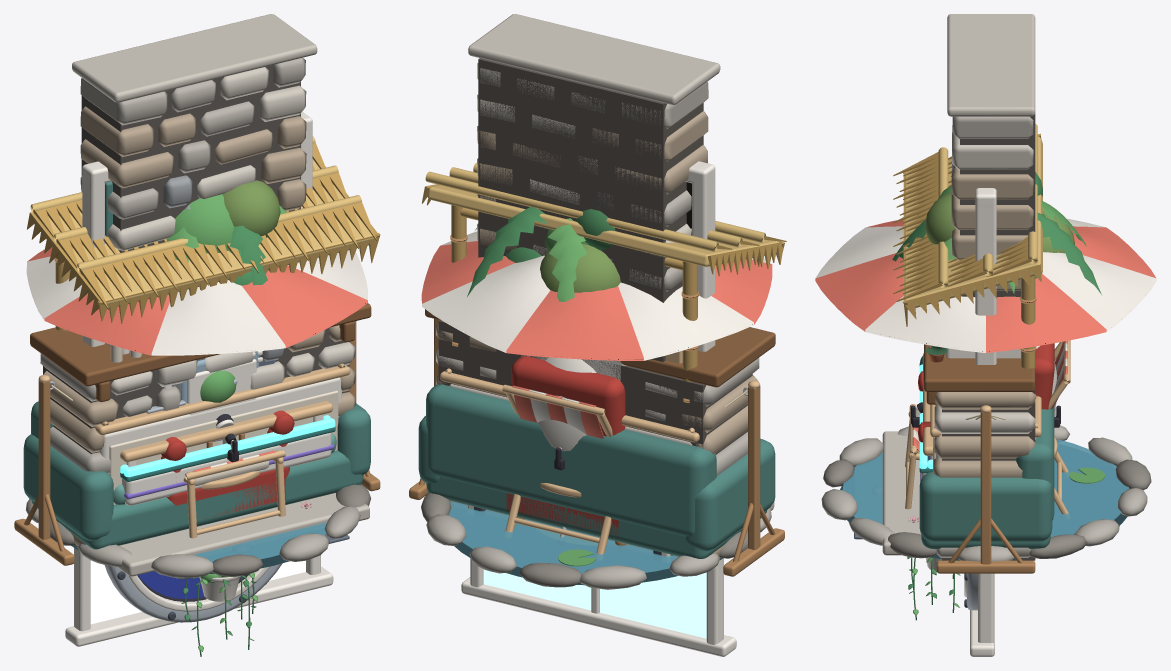
Rendered from office.glb.
3 views of the same model, side by side, from view 1: azimuth 30°, elevation 25°; view 2: azimuth 150°, elevation 25°; view 3: azimuth 270°, elevation 25° (orthographic). The views are drawn at different scales.
Parts seen in each view (by area): view 1: JuiceBar_Fringe, Fireplace_Stones_lodge_stone_warm, Fireplace_ChimneyCap, BeachUmbrella_PanelsWhite, Fireplace_Stones_stone, BeachUmbrella_PanelsCoral, Fireplace_Stones_lodge_stone_light, Fireplace_Core, Couch_Base, Fireplace_Hearth, JuiceBar_Thatch, Couch_Arm0 (+36 smaller); view 2: Fireplace_Core, Couch_Back, BeachUmbrella_PanelsCoral, BeachUmbrella_PanelsWhite, Fireplace_ChimneyCap, Fireplace_Stones_lodge_stone_warm, Window_Glass, Fireplace_Stones_stone, KoiPond_Water, Couch_Base, Couch_Arm0, KoiPond_Stones (+25 smaller); view 3: BeachUmbrella_PanelsWhite, BeachUmbrella_PanelsCoral, Fireplace_Stones_lodge_stone_warm, Fireplace_ChimneyCap, Couch_Arm1, JuiceBar_Fringe, KoiPond_Water, KoiPond_Stones, Fireplace_Stones_lodge_stone_light, Hammock_Frame, Fireplace_Mantel, KoiPond_StonesDark (+16 smaller).
Boxes of the visible parts, box(x1,y1,x2,y2) form: JuiceBar_Fringe: box(27, 143, 380, 323); Fireplace_Stones_lodge_stone_warm: box(43, 106, 355, 545); Fireplace_ChimneyCap: box(72, 14, 317, 102); BeachUmbrella_PanelsWhite: box(26, 250, 367, 355); Fireplace_Stones_stone: box(40, 57, 305, 472); BeachUmbrella_PanelsCoral: box(27, 247, 367, 355); Fireplace_Stones_lodge_stone_light: box(108, 67, 355, 395); Fireplace_Core: box(43, 64, 348, 454); Couch_Base: box(32, 450, 363, 549); Fireplace_Hearth: box(117, 493, 369, 576); JuiceBar_Thatch: box(35, 159, 373, 308); Couch_Arm0: box(23, 434, 113, 541); Fireplace_Core: box(438, 58, 752, 454); Couch_Back: box(426, 384, 716, 536); BeachUmbrella_PanelsCoral: box(421, 241, 772, 360); BeachUmbrella_PanelsWhite: box(422, 231, 771, 360); Fireplace_ChimneyCap: box(468, 14, 720, 104); Fireplace_Stones_lodge_stone_warm: box(435, 111, 758, 556); Window_Glass: box(483, 569, 706, 638); Fireplace_Stones_stone: box(477, 63, 759, 475); KoiPond_Water: box(449, 501, 678, 573); Couch_Base: box(426, 477, 767, 558); Couch_Arm0: box(685, 438, 775, 551); KoiPond_Stones: box(426, 508, 771, 589); BeachUmbrella_PanelsWhite: box(816, 218, 1156, 352); BeachUmbrella_PanelsCoral: box(815, 220, 1155, 352); Fireplace_Stones_lodge_stone_warm: box(934, 166, 1035, 477); Fireplace_ChimneyCap: box(947, 14, 1035, 116); Couch_Arm1: box(919, 471, 1052, 542); JuiceBar_Fringe: box(893, 133, 1041, 326); KoiPond_Water: box(842, 439, 1128, 537); KoiPond_Stones: box(821, 425, 1147, 561); Fireplace_Stones_lodge_stone_light: box(934, 132, 1035, 558); Hammock_Frame: box(936, 411, 1035, 573); Fireplace_Mantel: box(924, 344, 1035, 391); KoiPond_StonesDark: box(823, 459, 1151, 558).
Size of the model in its own units: 1.97 by 3.42 by 1.9.
